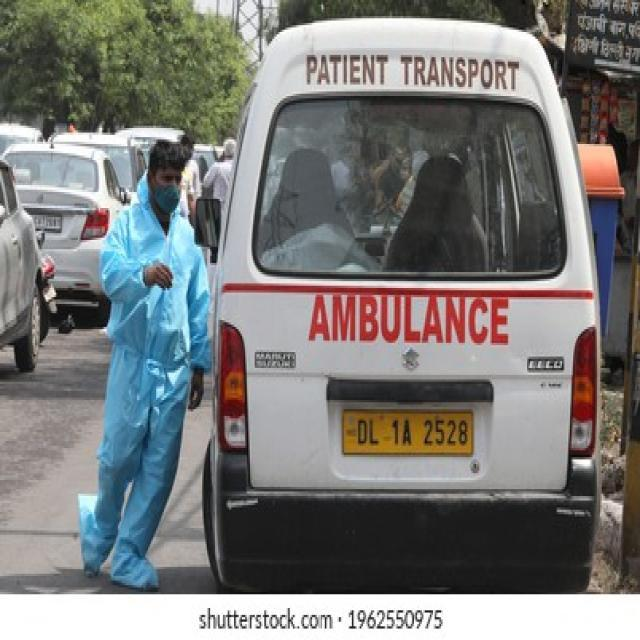ambulance: (210, 17, 603, 603)
